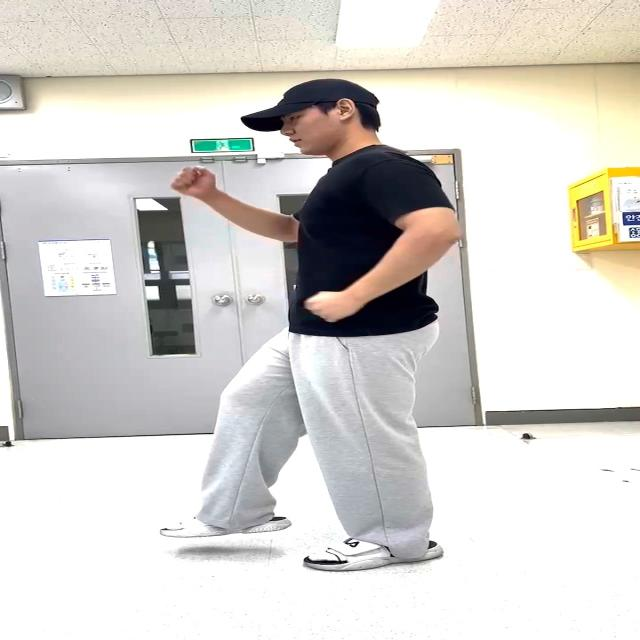leg: (167, 346, 303, 535)
